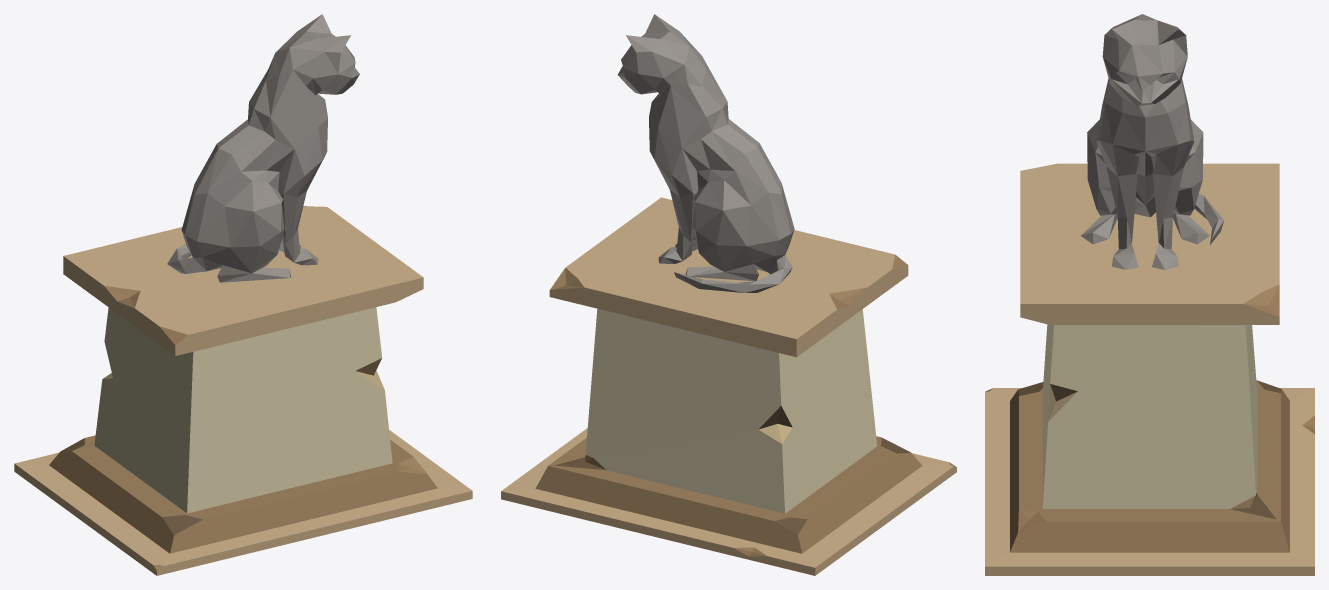
File: PillarCat_01.glb
3 views of the same model, side by side, from view 1: azimuth 30°, elevation 25°; view 2: azimuth 150°, elevation 25°; view 3: azimuth 270°, elevation 25° (orthographic). The views are drawn at different scales.
Parts seen in each view (by area): view 1: PillarCat_01; view 2: PillarCat_01; view 3: PillarCat_01.
Part boxes in pixels (x1,y1,x2,y2): PillarCat_01: (14, 14, 472, 575); PillarCat_01: (501, 14, 956, 575); PillarCat_01: (985, 14, 1314, 575).
Size of what is drawn, in the model's own units: 1.96 by 2.61 by 1.53.
Materials: 1 (1 with a texture image).
